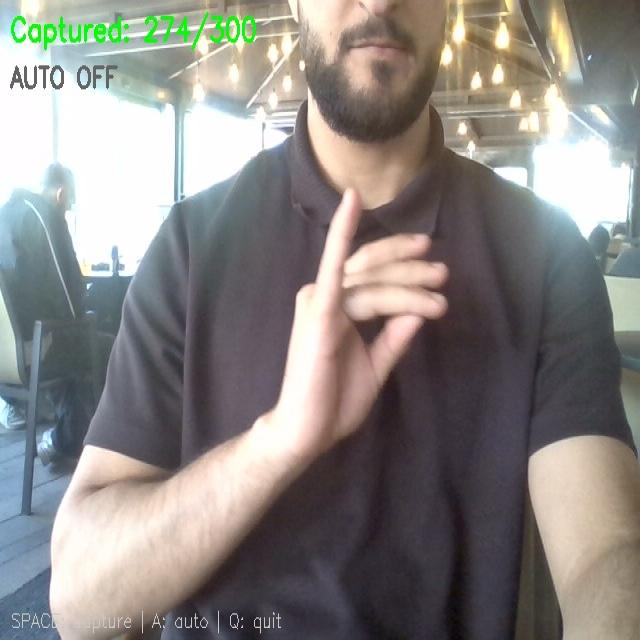Hand: (264, 190, 445, 459)
